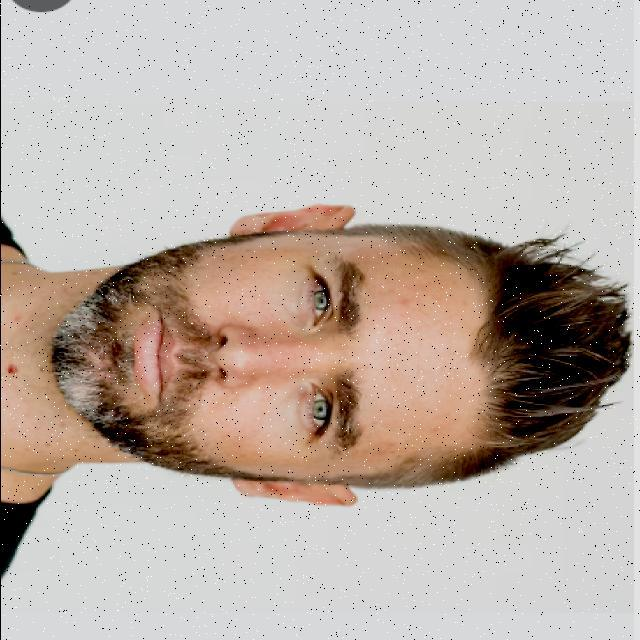face_no_mask: (67, 203, 505, 506)
